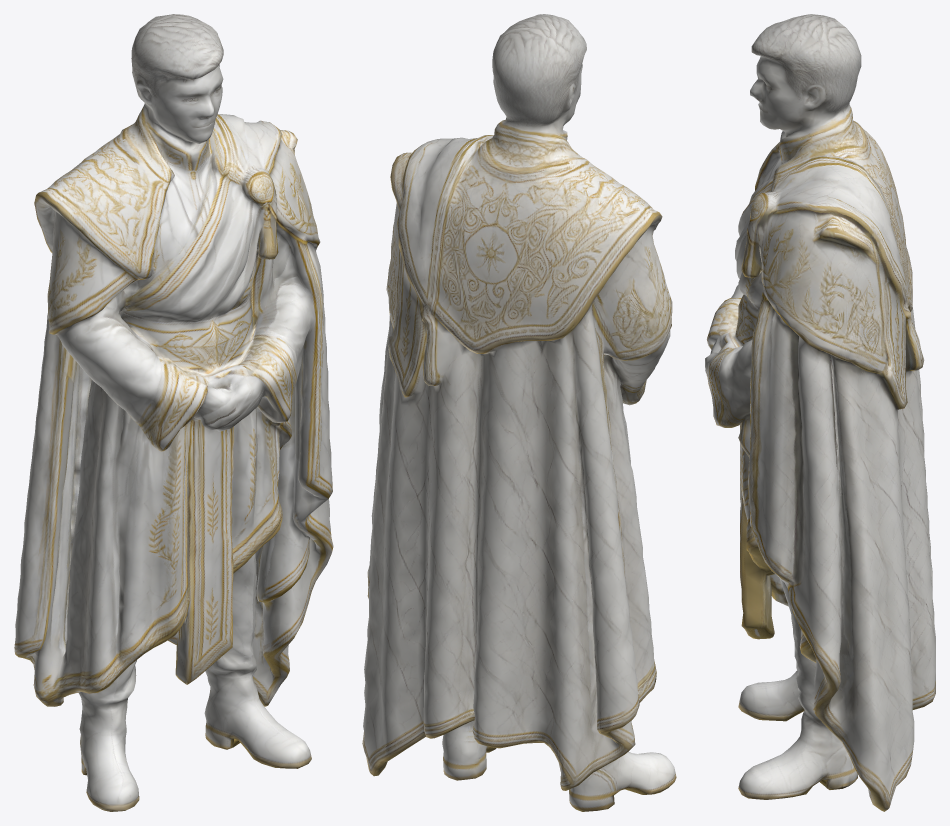
The model's file is TotemJuan.glb.
3 views of the same model, side by side, from view 1: azimuth 30°, elevation 25°; view 2: azimuth 150°, elevation 25°; view 3: azimuth 270°, elevation 25° (orthographic). The views are drawn at different scales.
Bounding box in the file's own units: 0.771 × 1.91 × 0.544.
1 material, 1 textured.
